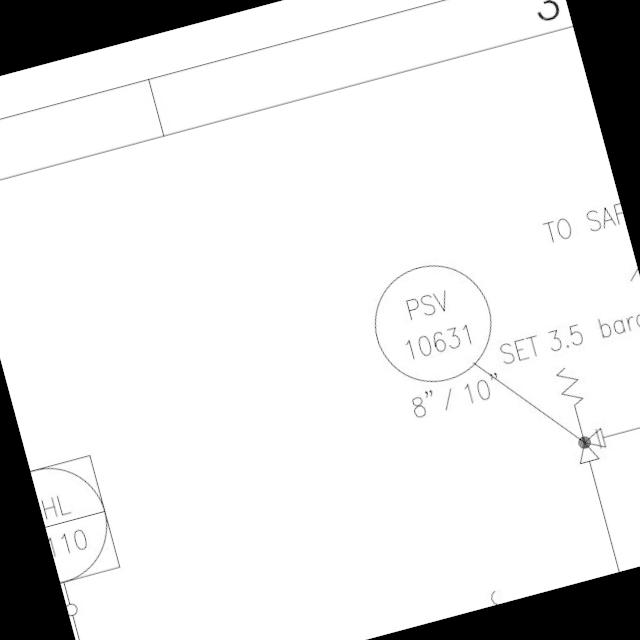RPV: (546, 354, 612, 474)
